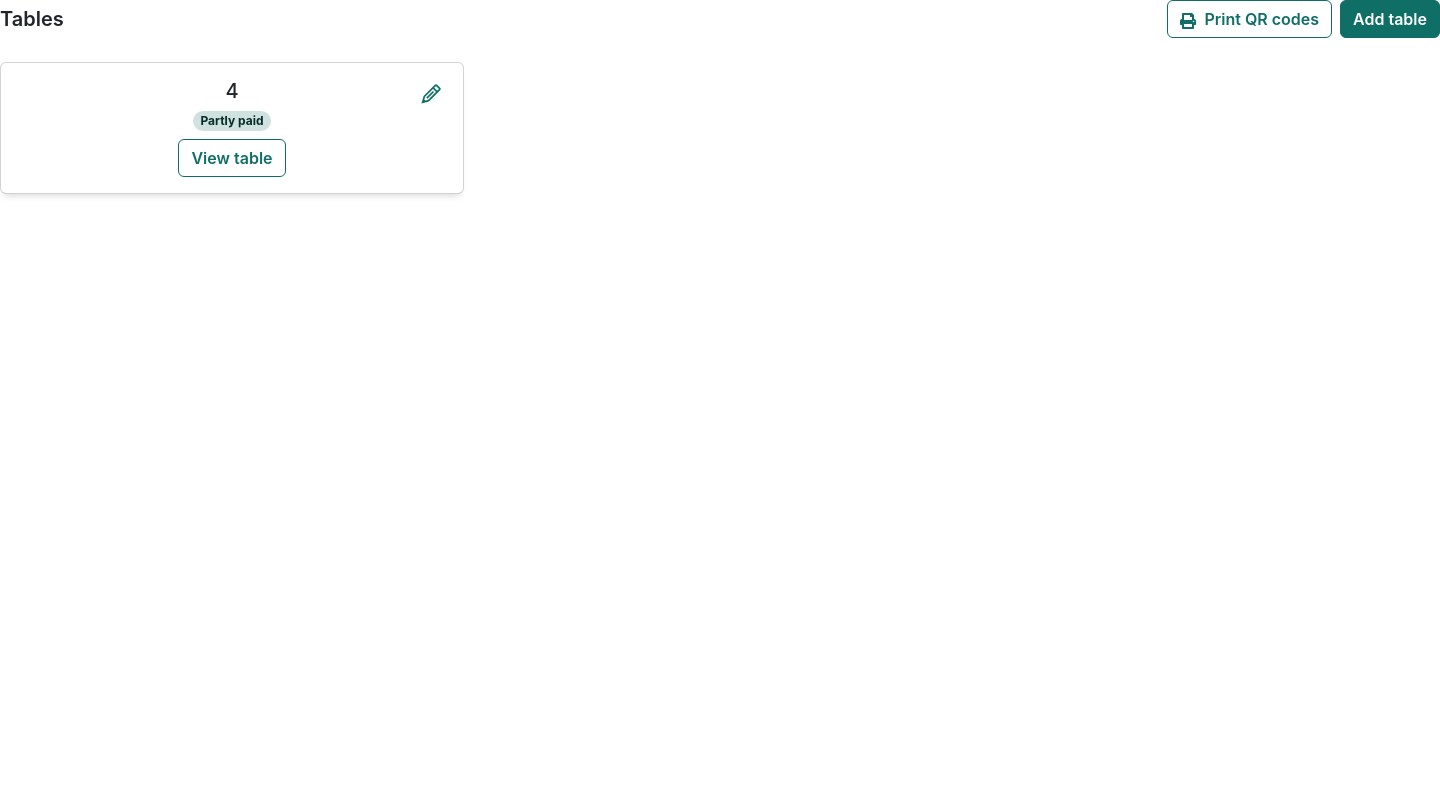
Scenario: a card payment on the table sheet › says Stripe returns a refund to the diner's card
Click the button with aria-label "View table 4" at (232, 158), box [178,139,286,177]
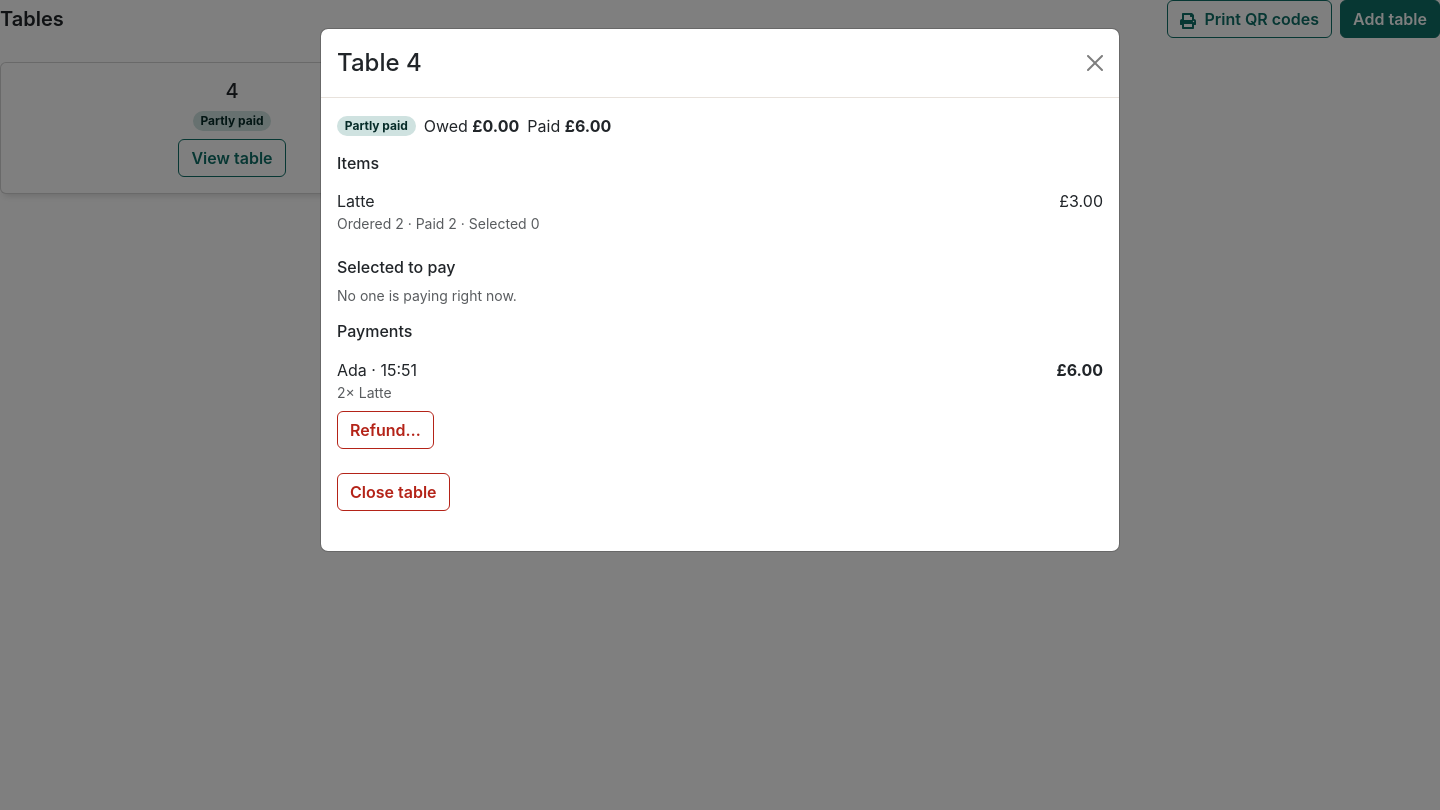
Click the button with aria-label "Refund items from Ada's payment of £6.00" at (385, 430), box [337,411,434,449]
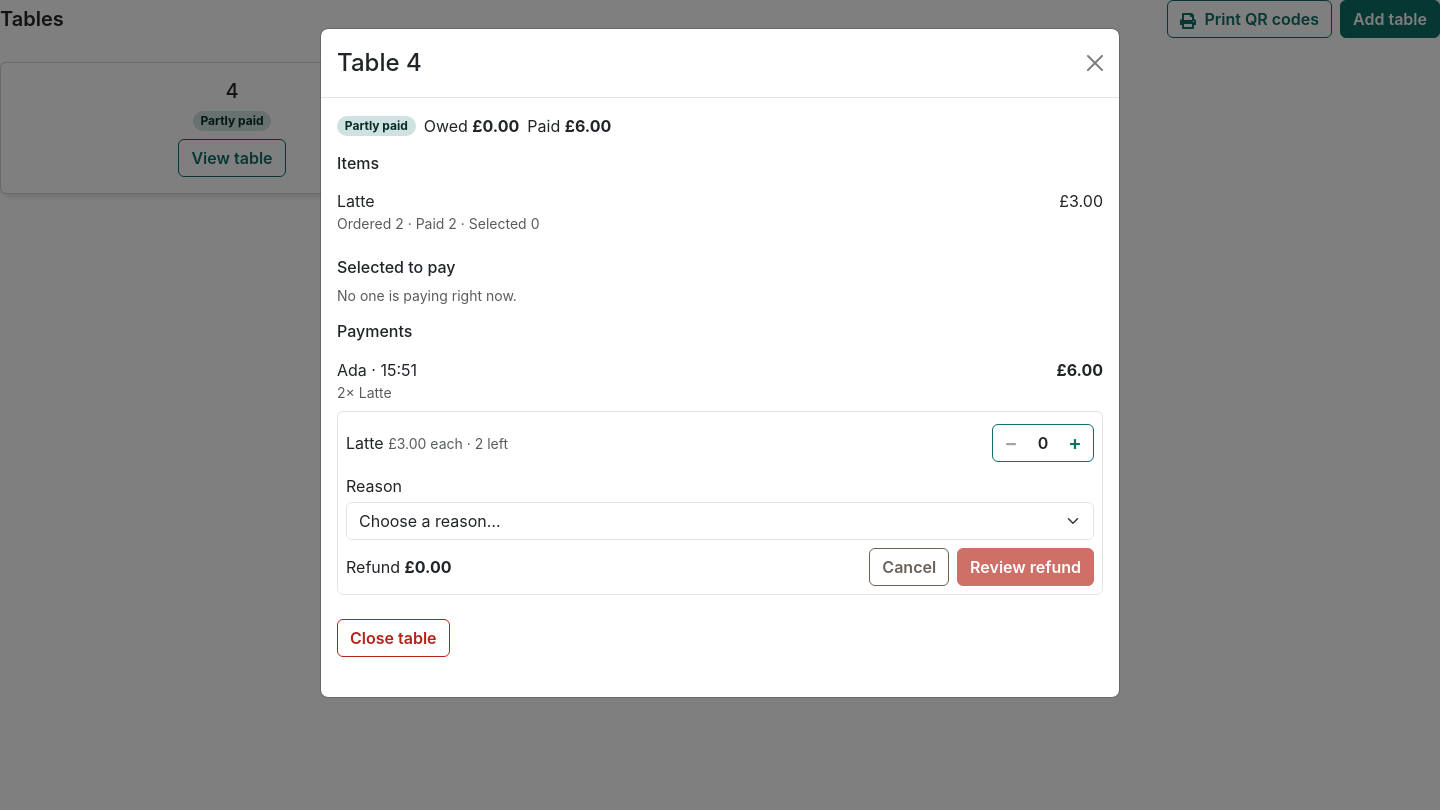
Click the button named "Refund one more Latte" at (1075, 443), box [1057,425,1093,461]
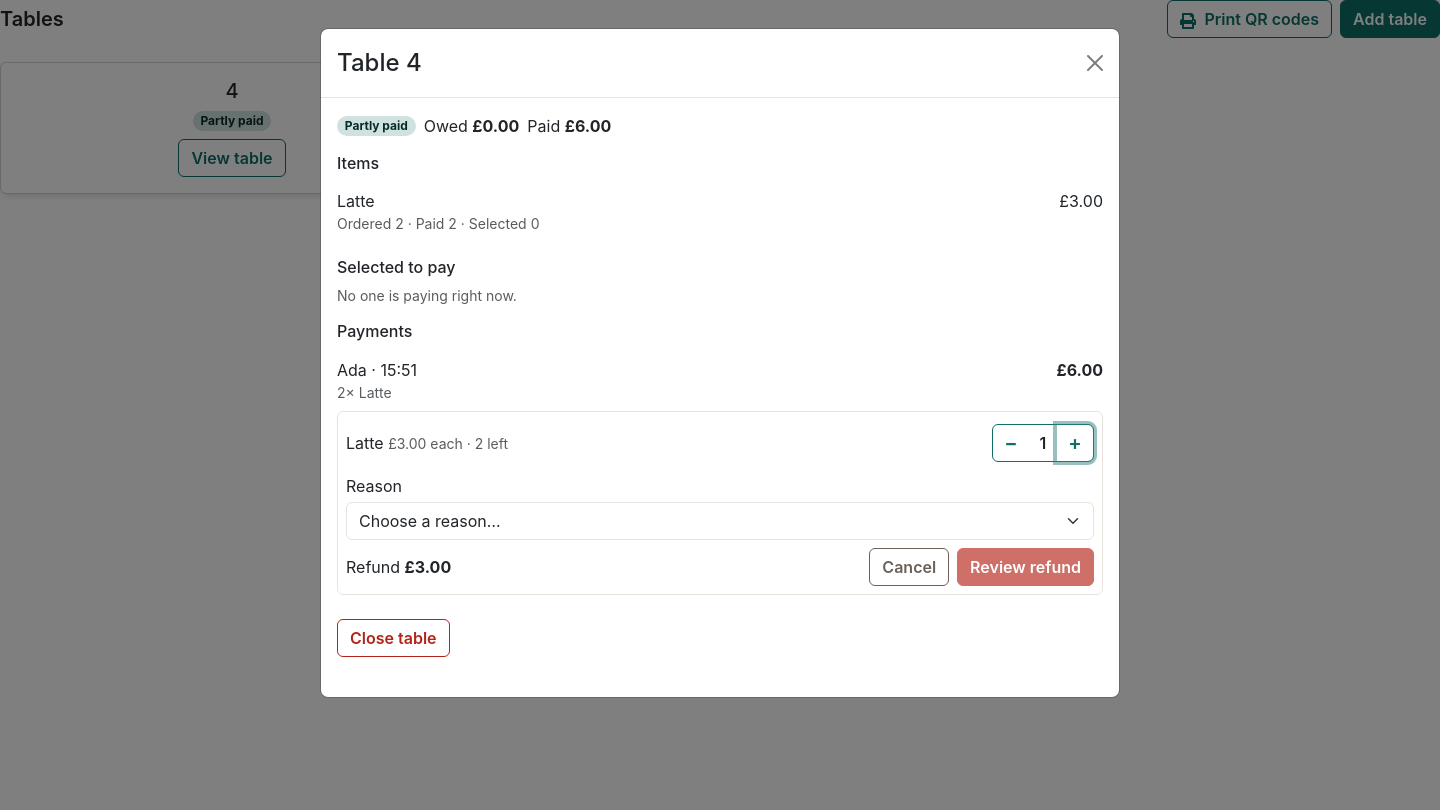
Select "Wrong item served" in the dropdown labelled "Reason" at (720, 521), box [346,502,1094,540]
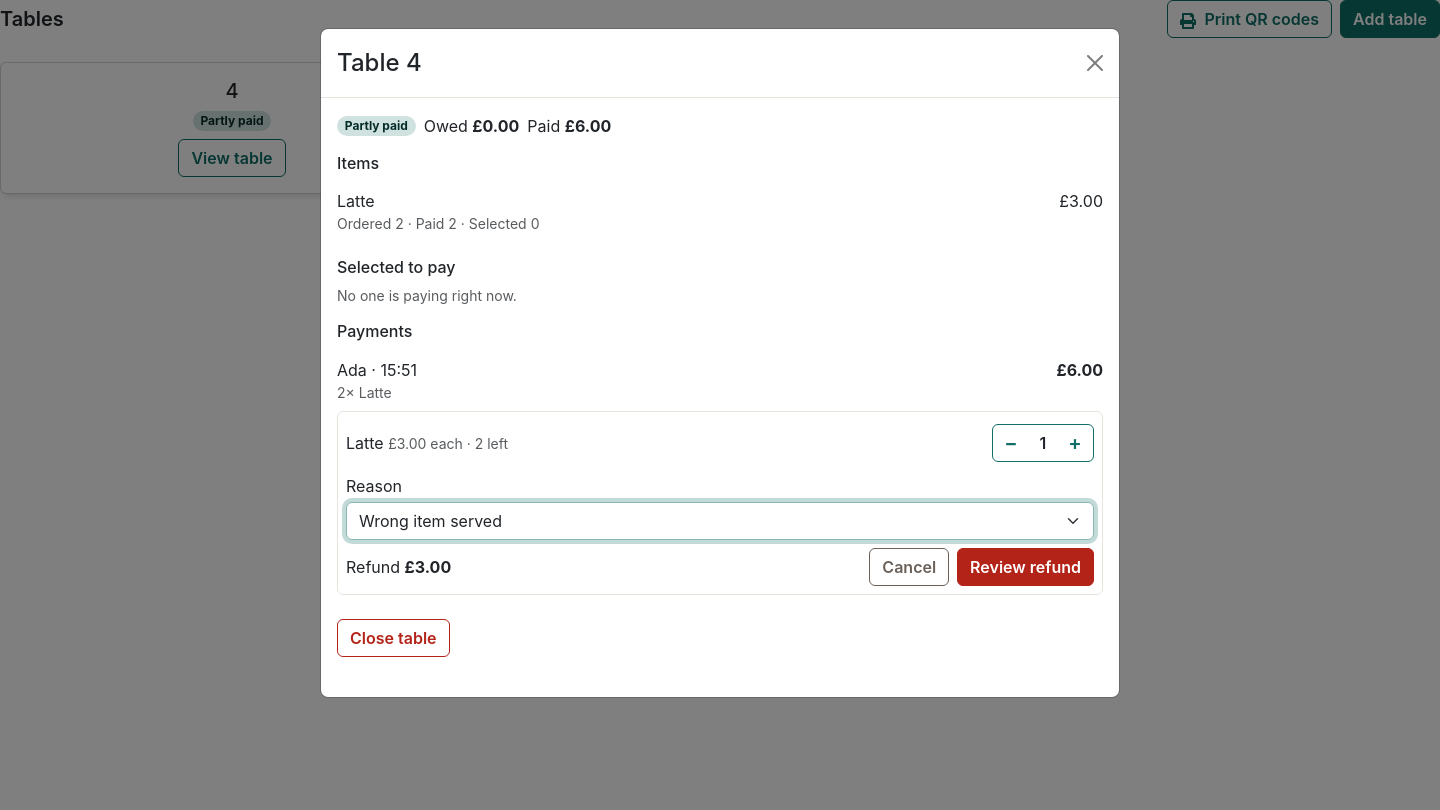
Click the button "Review refund" at (1026, 567), box [957,548,1094,586]
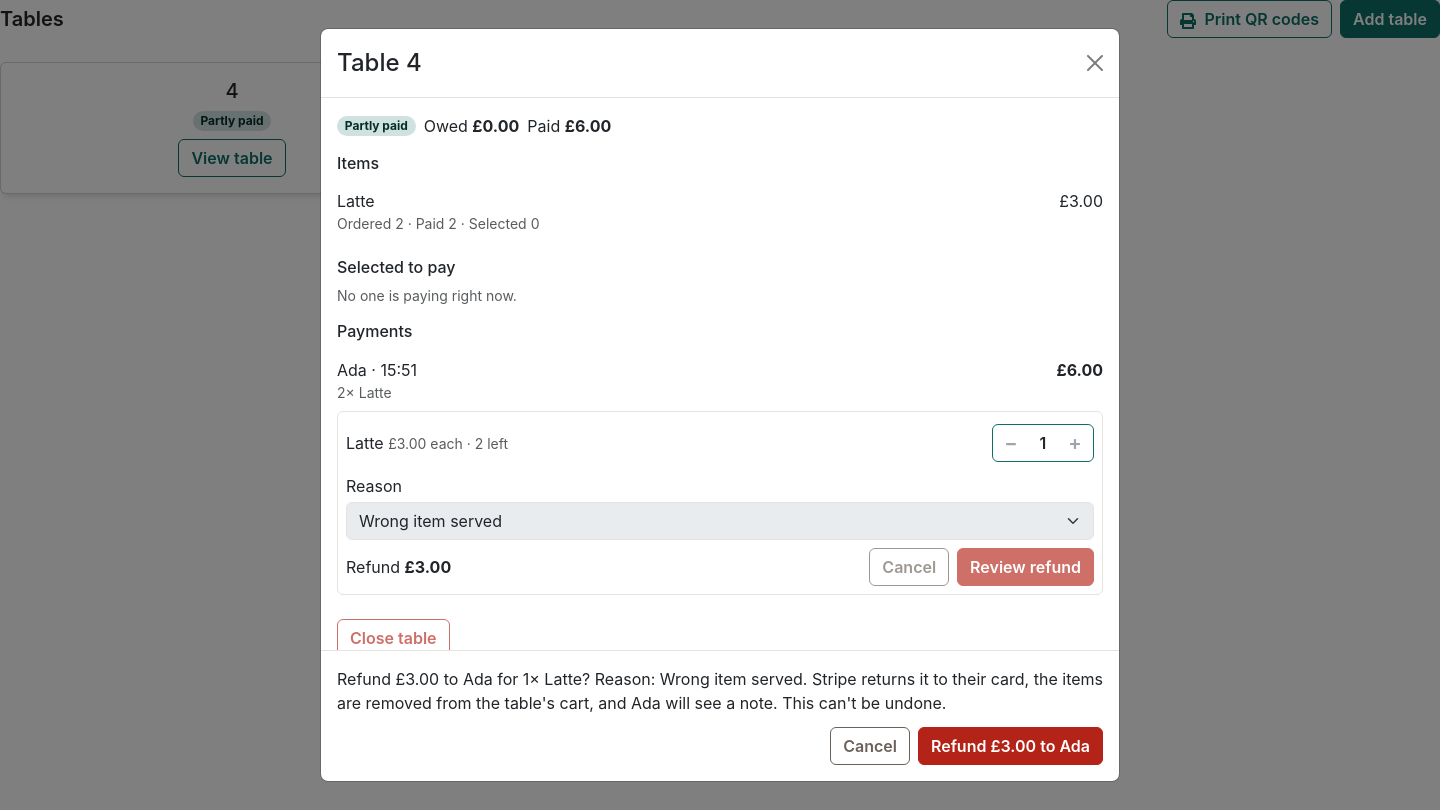
Result: the text "Refund £3.00 to Ada for 1× Latte? Reason: Wrong item served. Stripe returns it to their card, the items are removed from" is shown at [337,669,1103,713]
